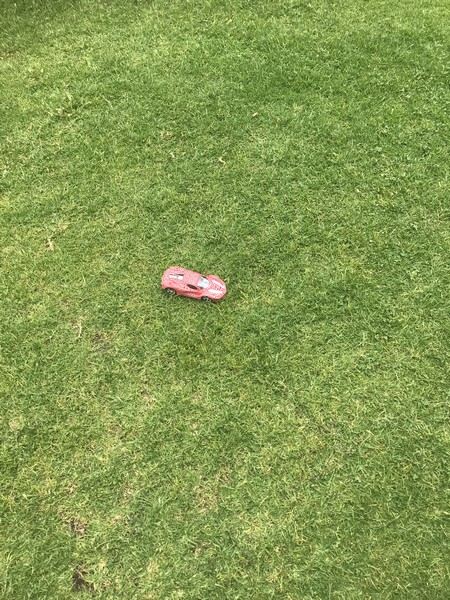RC: (160, 263, 228, 305)
